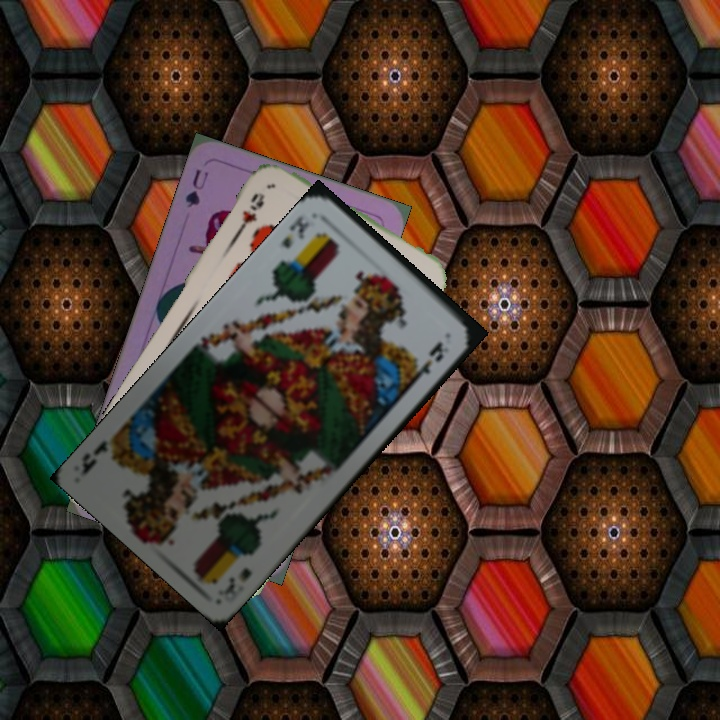EK: (277, 211, 312, 251), (219, 563, 255, 601)
GU: (181, 165, 211, 211)
H9: (233, 188, 268, 235)
